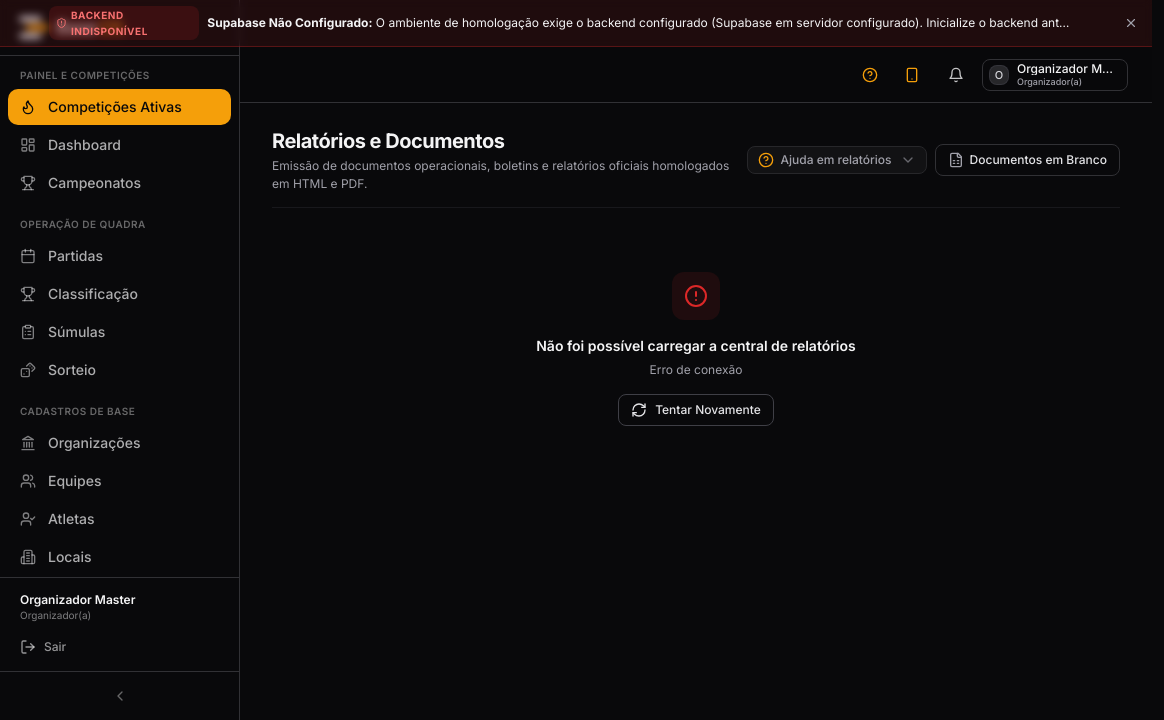
Test: ReportsPage Component (Fase 7.2) › exibe estado de erro amigável com retry quando o carregamento falha
Expected: the message is shown, [536,272,856,426]
Expected: the text "Não foi possível carregar a central de relatórios" is shown, [536,336,856,356]
What coordinates should you click on to do the following:
click the button "Tentar Novamente"
I would click on:
 (696, 410)
Its box is [618,394,774,426].
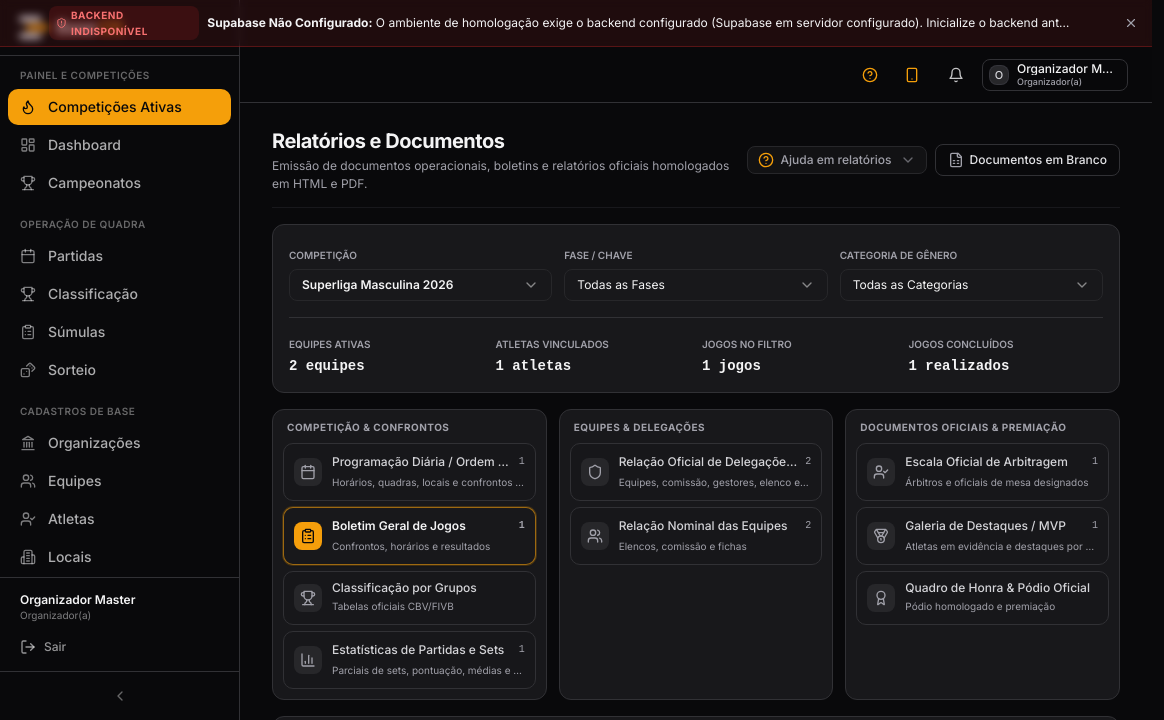
Now the text "Boletim Geral de Jogos" is shown, box [332,518,466,534]
